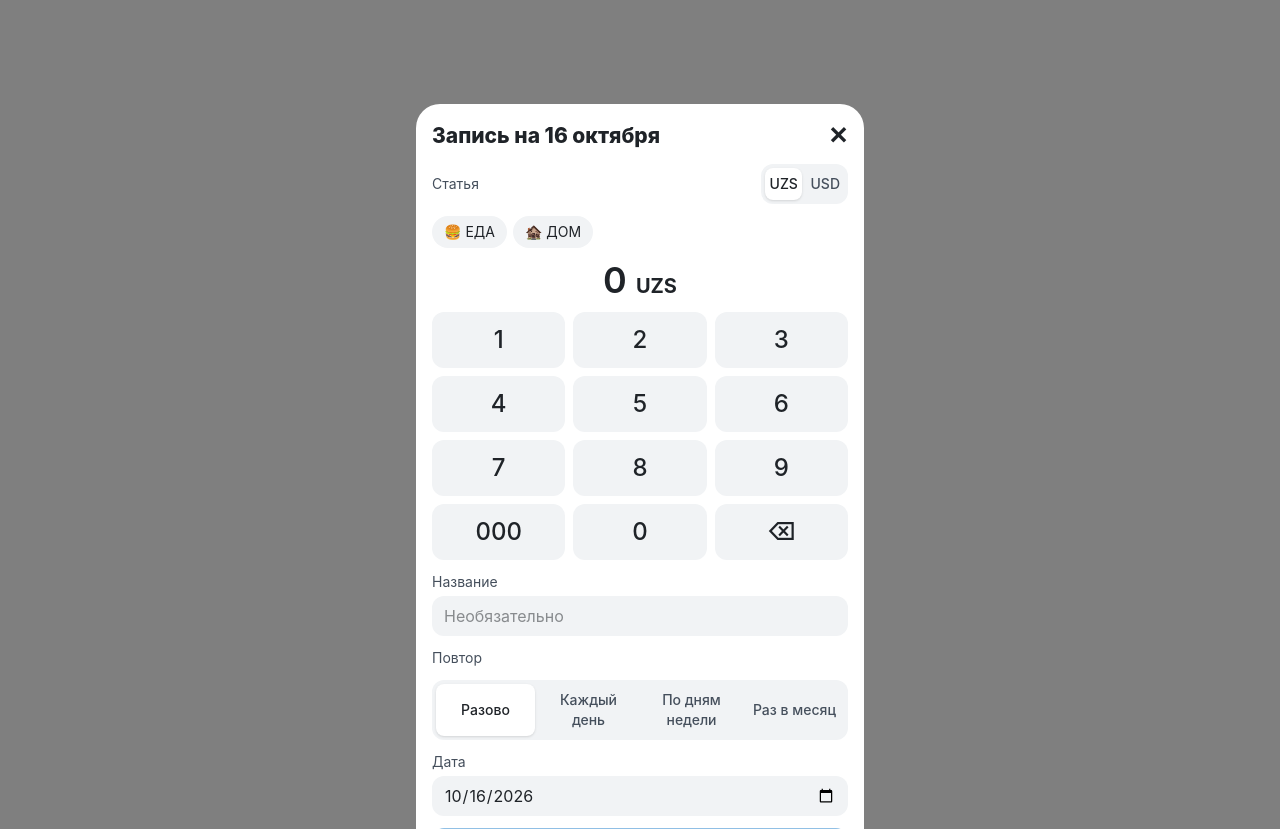
Test case: RecordSheet › says when the article is not in the month plan
The width and height of the screenshot is (1280, 829).
Click the radio button labelled "USD" at (825, 184), box [806, 168, 844, 200]
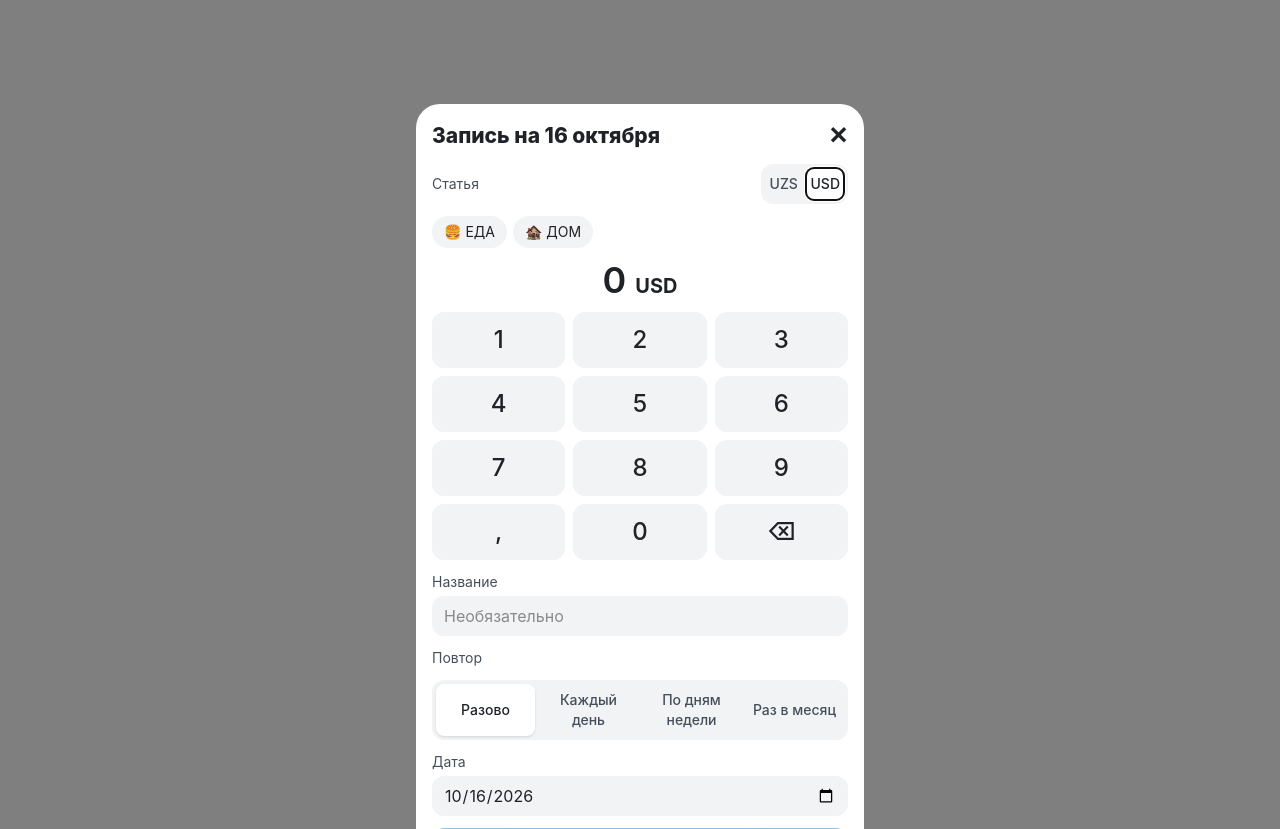
Click the button "🍔 ЕДА" at (470, 232), box [432, 216, 507, 248]
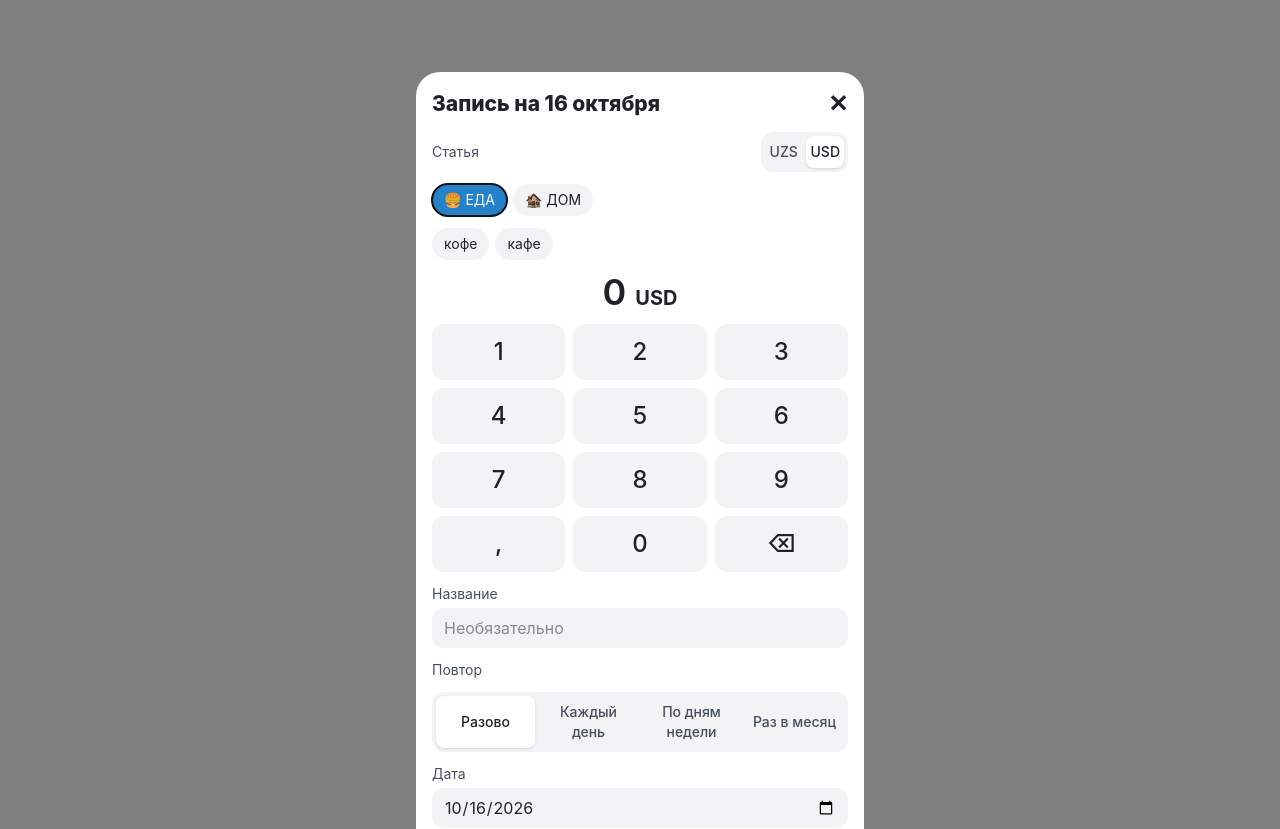
Click the button "кофе" at (461, 244), box [432, 228, 490, 260]
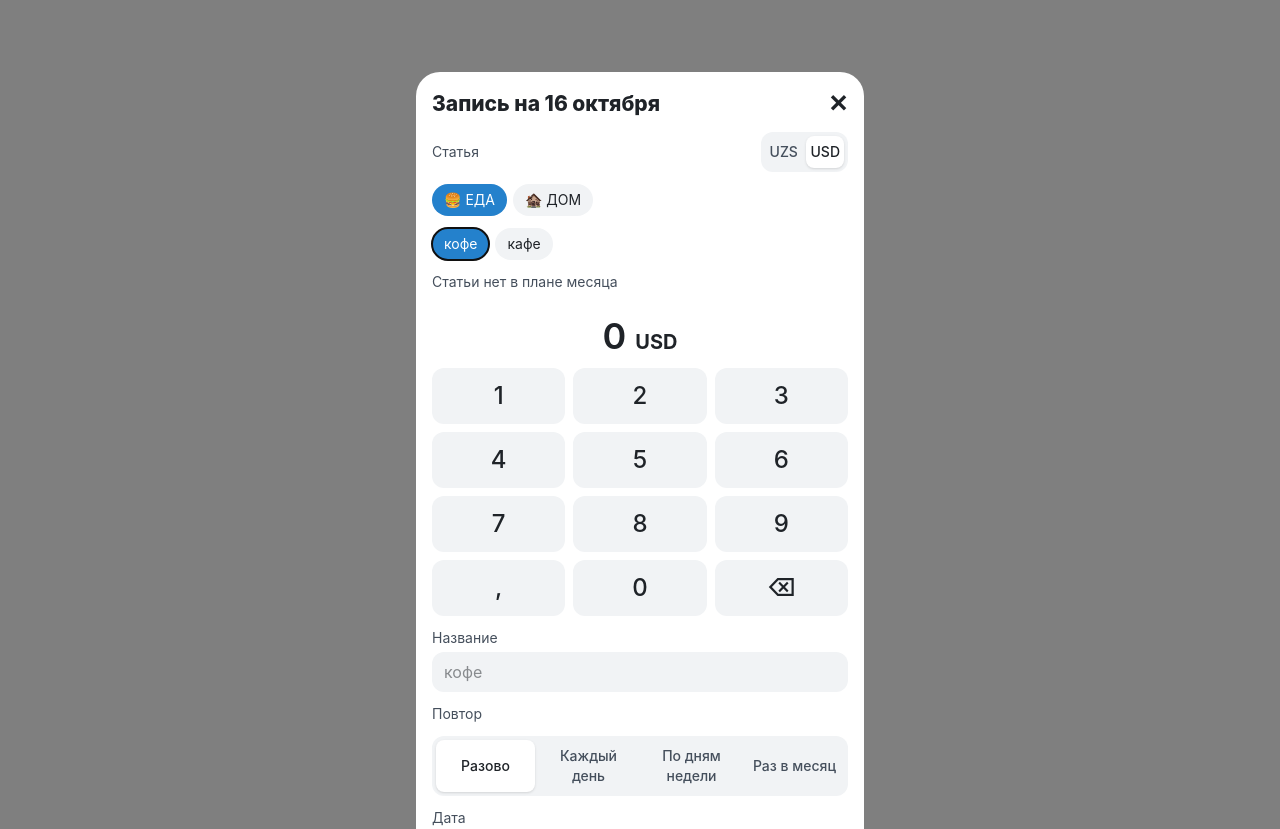
Expected: the text "Статьи нет в плане месяца" is shown, [432, 273, 618, 290]
